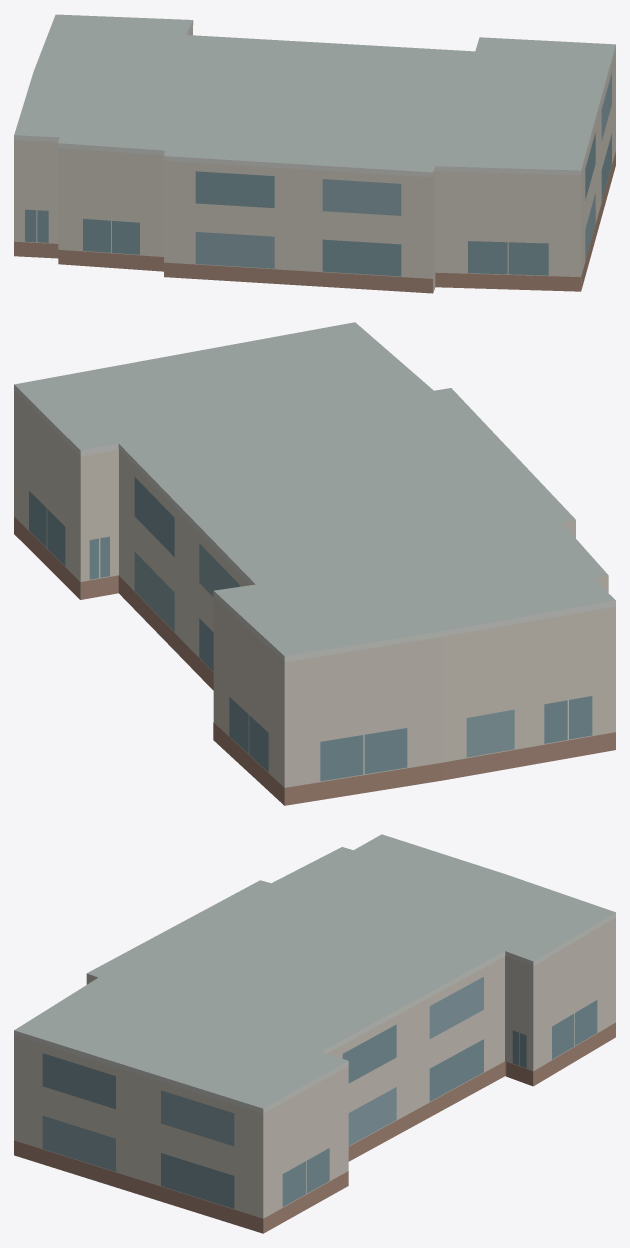
Rendered from survey-upis-32866174.glb.
3 renders of one model, top to bottom at view 1: azimuth 30°, elevation 25°; view 2: azimuth 150°, elevation 25°; view 3: azimuth 270°, elevation 25°, orthographic. The views are drawn at different scales.
Parts seen in each view (by area): view 1: survey-upis-32866174.tmp; view 2: survey-upis-32866174.tmp; view 3: survey-upis-32866174.tmp.
Part boxes in pixels (x1,y1,x2,y2): survey-upis-32866174.tmp: (14,14,615,293); survey-upis-32866174.tmp: (14,322,615,805); survey-upis-32866174.tmp: (14,834,615,1233).
Bounding box in the file's own units: 28.72 × 6.1 × 26.62.
